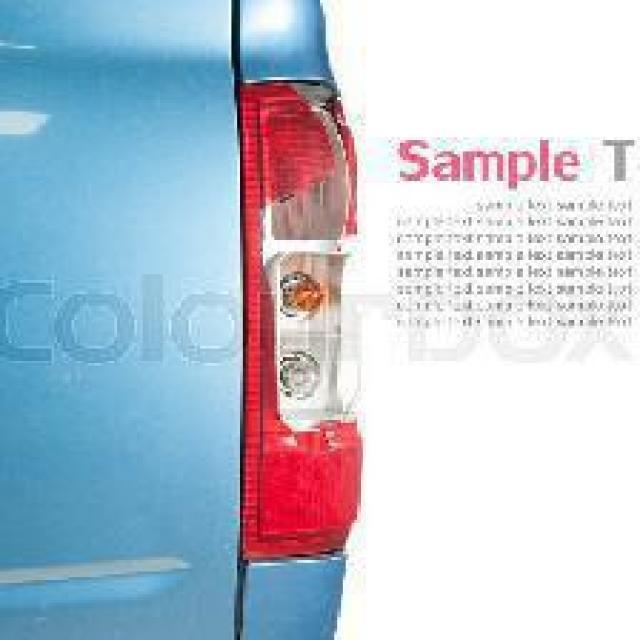damaged: (237, 80, 369, 486)
